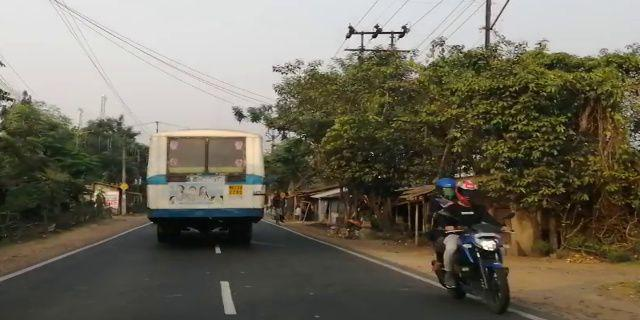Bus: (144, 128, 267, 248)
Motorbike: (424, 172, 520, 315)
